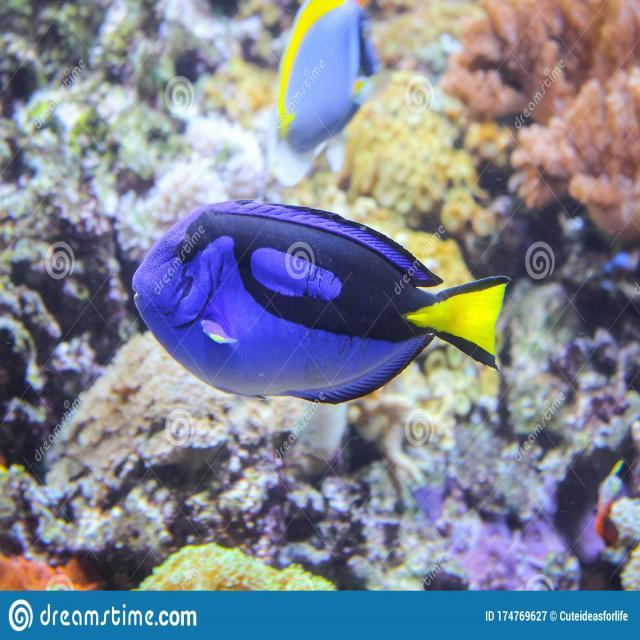BlueTang: (134, 205, 504, 396)
